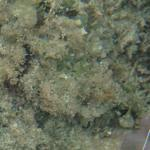dead: (3, 2, 147, 147)
